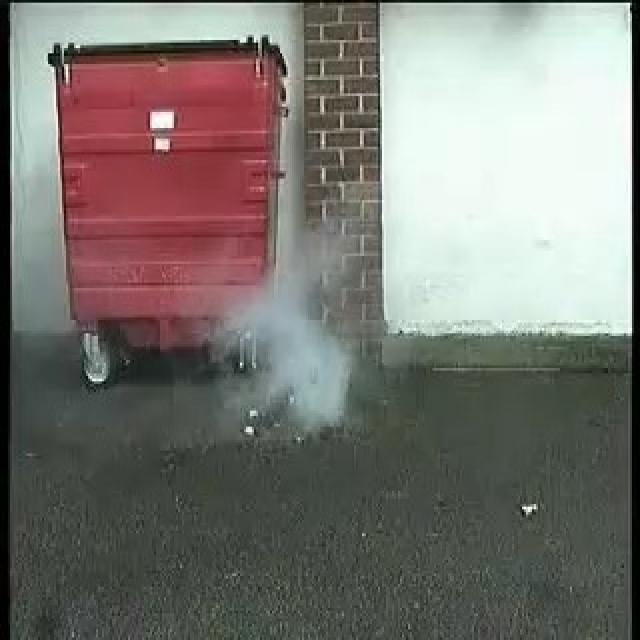smoke: (232, 236, 354, 428)
